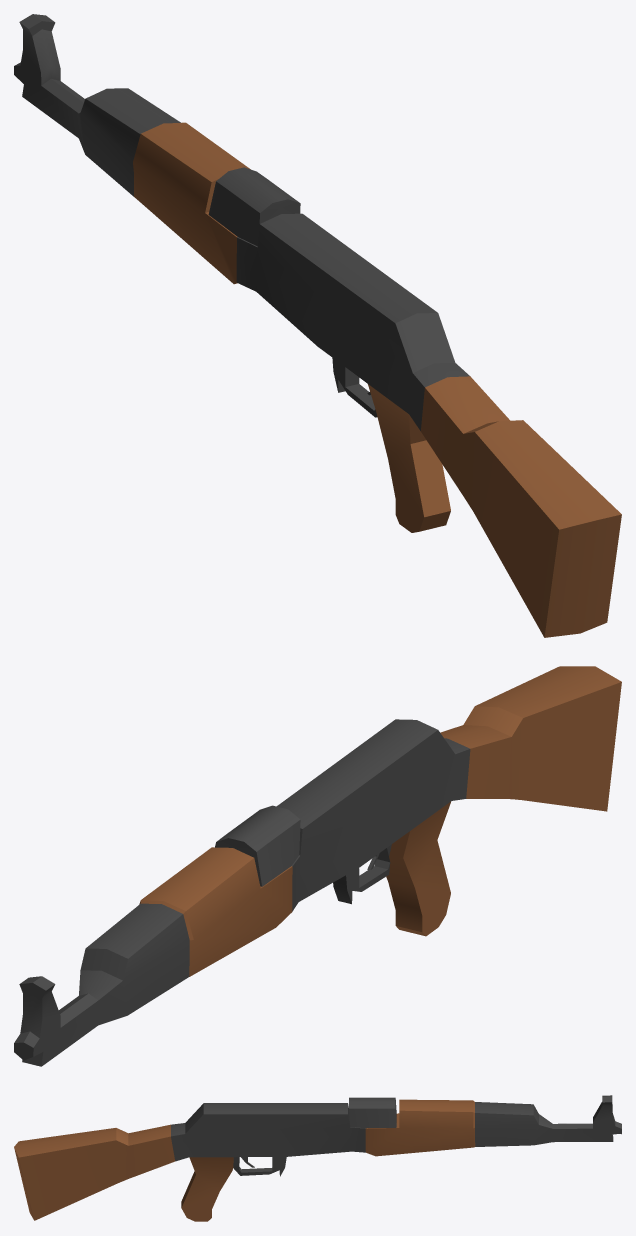
3 renders of one model, top to bottom at view 1: azimuth 30°, elevation 25°; view 2: azimuth 150°, elevation 25°; view 3: azimuth 270°, elevation 25°, orthographic. The views are drawn at different scales.
Visible parts, largest first — view 1: Gun; view 2: Gun; view 3: Gun.
Boxes of the visible parts, x1,y1,x2,y2 form: Gun: [14, 14, 621, 637]; Gun: [14, 666, 621, 1066]; Gun: [14, 1095, 621, 1221].
Size of the model in its own units: 0.1455 by 0.5059 by 2.29.
